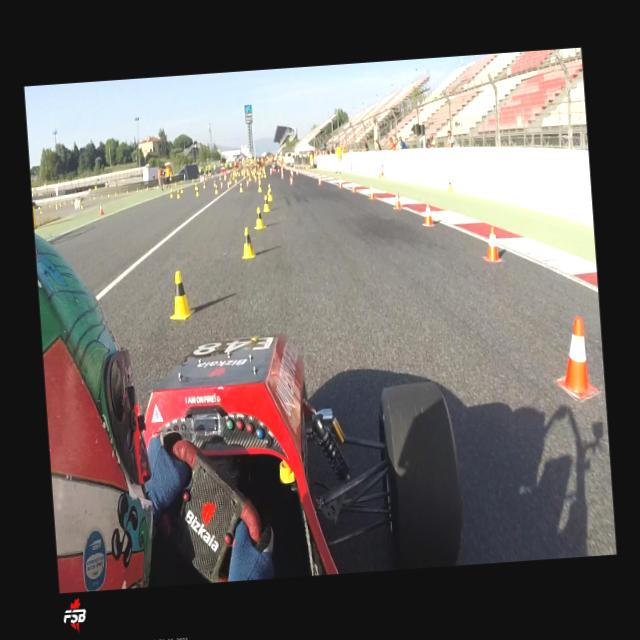orange_cone: (552, 314, 598, 400), (481, 226, 502, 264), (420, 202, 435, 226), (392, 192, 402, 211), (367, 184, 375, 200), (98, 204, 105, 216), (316, 174, 322, 186), (238, 182, 244, 192), (350, 184, 356, 194), (288, 176, 294, 186), (338, 178, 342, 188), (246, 178, 250, 188), (234, 177, 238, 185), (280, 171, 284, 179), (220, 182, 223, 188), (254, 174, 256, 182), (228, 180, 230, 187)
yellow_cone: (167, 268, 196, 320), (240, 226, 256, 258), (252, 206, 266, 228), (261, 194, 270, 212), (266, 186, 272, 200), (446, 180, 452, 192), (238, 181, 244, 192), (257, 181, 262, 193), (194, 186, 200, 196), (267, 182, 272, 192), (176, 189, 181, 198), (169, 189, 174, 198), (214, 185, 218, 194), (212, 178, 216, 186), (194, 182, 198, 190), (202, 180, 206, 188), (80, 202, 84, 208), (180, 186, 183, 193), (228, 177, 231, 184), (248, 174, 251, 181), (260, 171, 262, 178), (264, 172, 266, 178)
